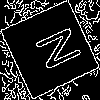N: (25, 24, 83, 77)
